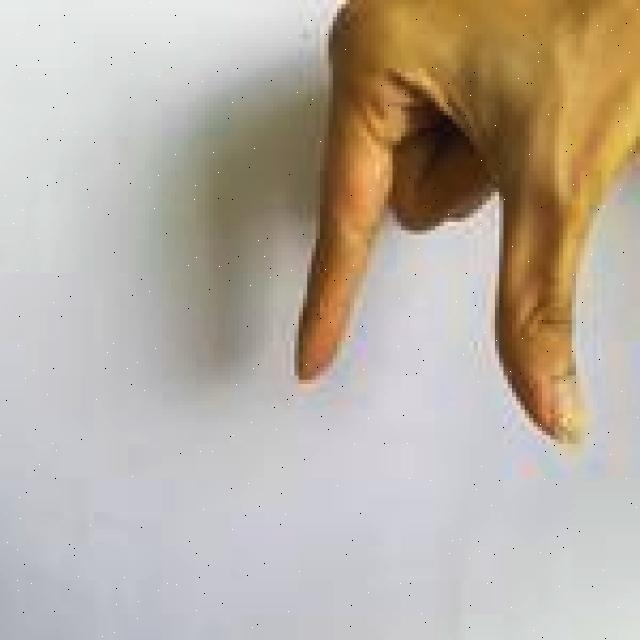Q: (279, 0, 640, 454)
